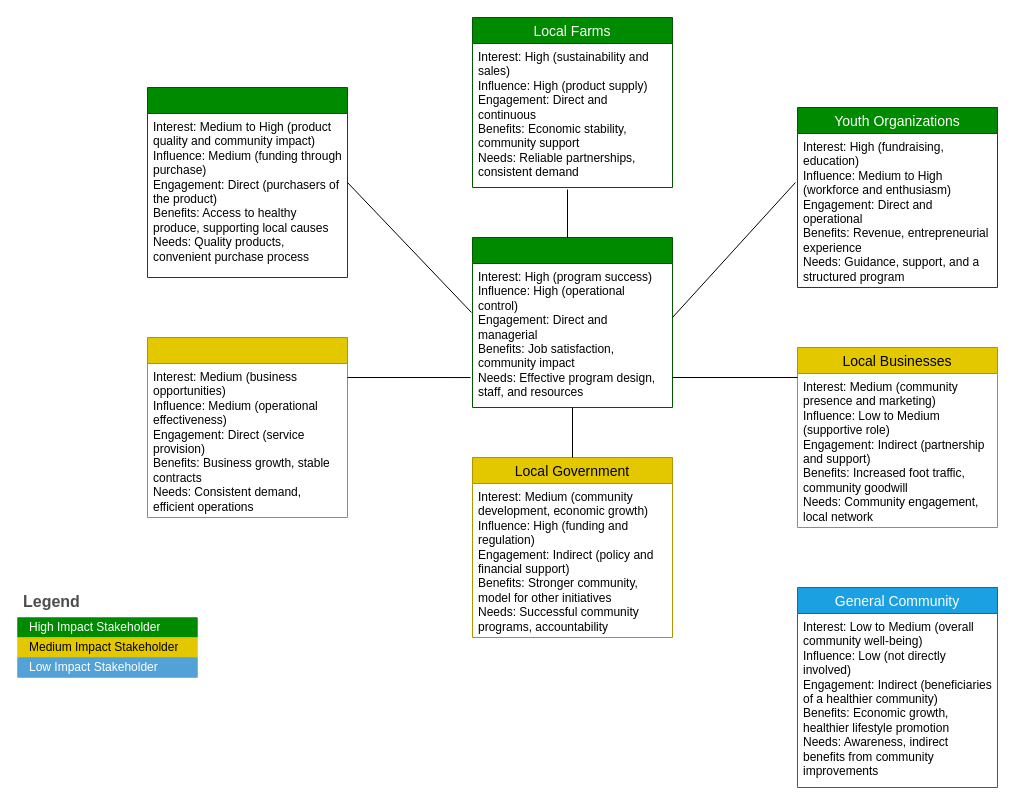
Some shapes in this 1015 by 808 pixel diagram are drawn without their labels. The box of each missing label's shape, as (x1, y1, x2, y2) in pixels:
Community Harvest Staff: (472, 236, 672, 408)
Subscribers (Box Buyers): (146, 86, 348, 278)
Supply Chain Partners: (146, 336, 348, 518)
